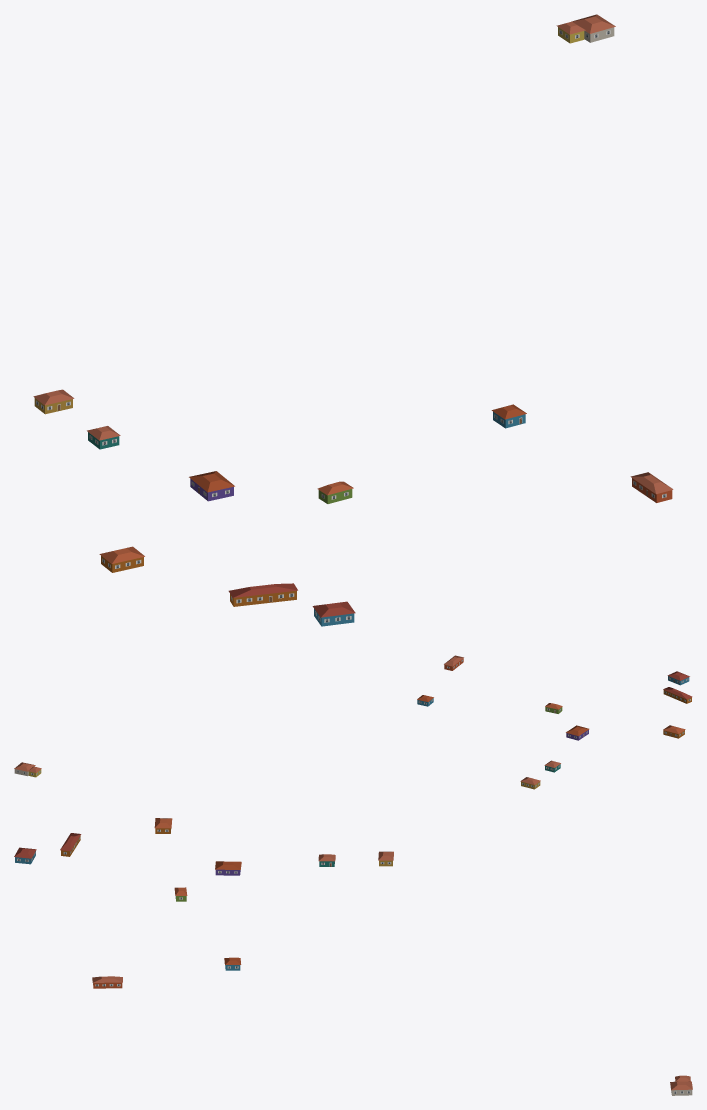
The model's file is msb_sannicolas_12_20.glb.
3 views of the same model, one above another, from view 1: azimuth 30°, elevation 25°; view 2: azimuth 150°, elevation 25°; view 3: azimuth 270°, elevation 25° (orthographic). The views are drawn at different scales.
Parts seen in each view (by area): view 1: msb_sannicolas_12_20_lod0; view 2: msb_sannicolas_12_20_lod0; view 3: msb_sannicolas_12_20_lod0.
Part boxes in pixels (bbox=[...]): msb_sannicolas_12_20_lod0: bbox=[33, 14, 673, 626]; msb_sannicolas_12_20_lod0: bbox=[14, 655, 692, 789]; msb_sannicolas_12_20_lod0: bbox=[14, 818, 692, 1095].
Size of what is drawn, in the model's own units: 350 by 14.55 by 359.
Materials: 2 (1 with a texture image).
